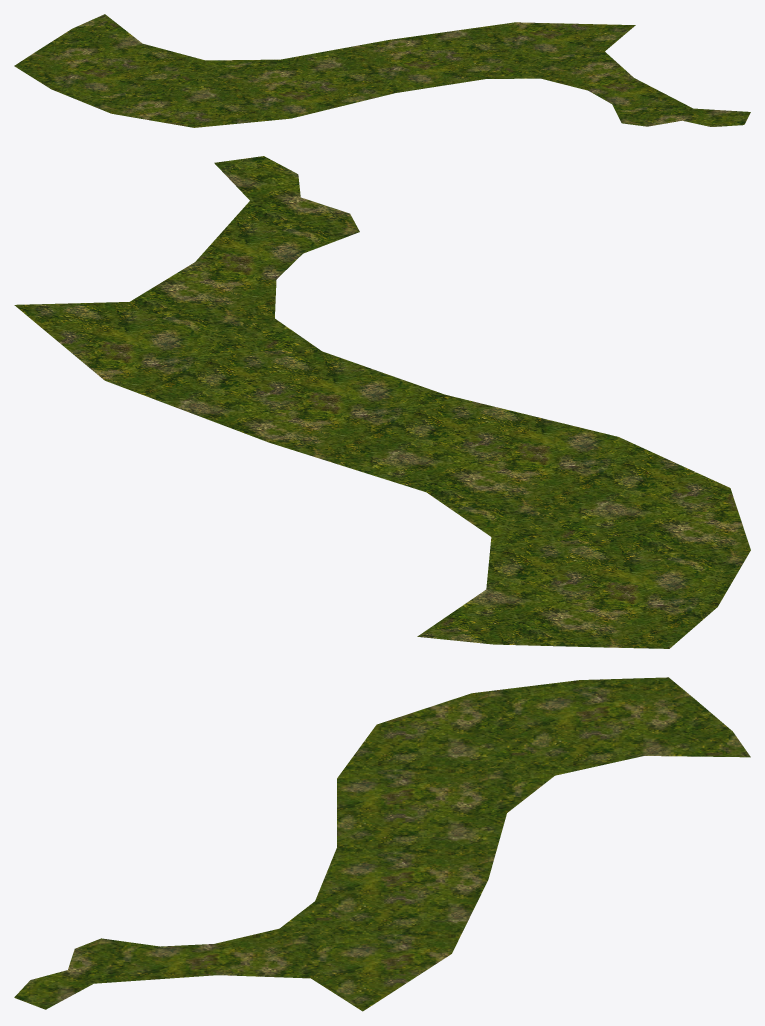
File: OVERHILL_A_01_LINE112.fbx
3 views of the same model, one above another, from view 1: azimuth 30°, elevation 25°; view 2: azimuth 150°, elevation 25°; view 3: azimuth 270°, elevation 25° (orthographic). The views are drawn at different scales.
Parts seen in each view (by area): view 1: OVERHILL_A_01_LINE112; view 2: OVERHILL_A_01_LINE112; view 3: OVERHILL_A_01_LINE112.
Boxes of the visible parts, box(x1,y1,x2,y2) form: OVERHILL_A_01_LINE112: box(14, 14, 750, 127); OVERHILL_A_01_LINE112: box(14, 156, 750, 648); OVERHILL_A_01_LINE112: box(14, 677, 750, 1011).
Bounding box in the file's own units: 81010 × 0.0454 × 75517.
1 material, 1 textured.
